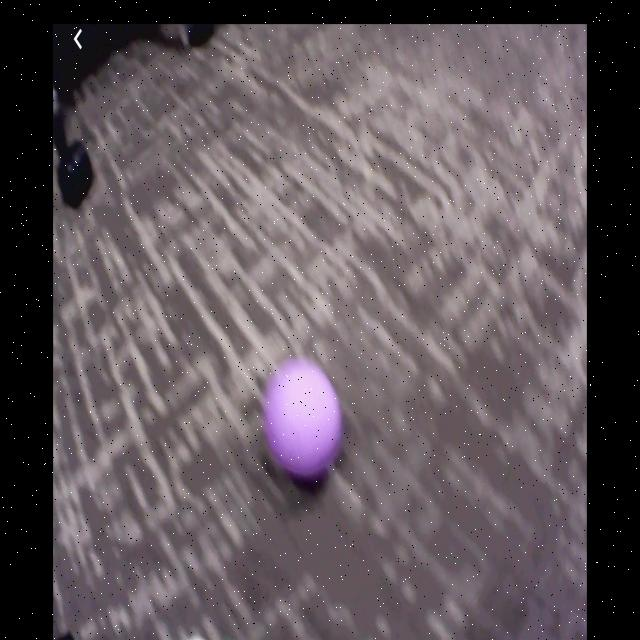ball: (264, 358, 342, 479)
